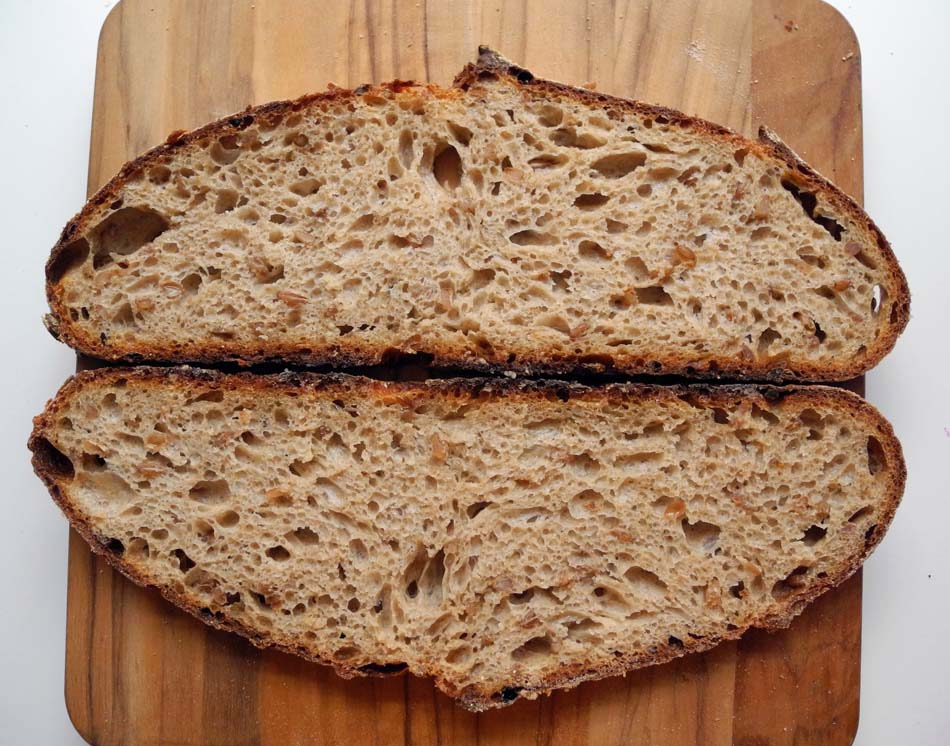slice of bread: (27, 378, 909, 705), (37, 97, 916, 377)
